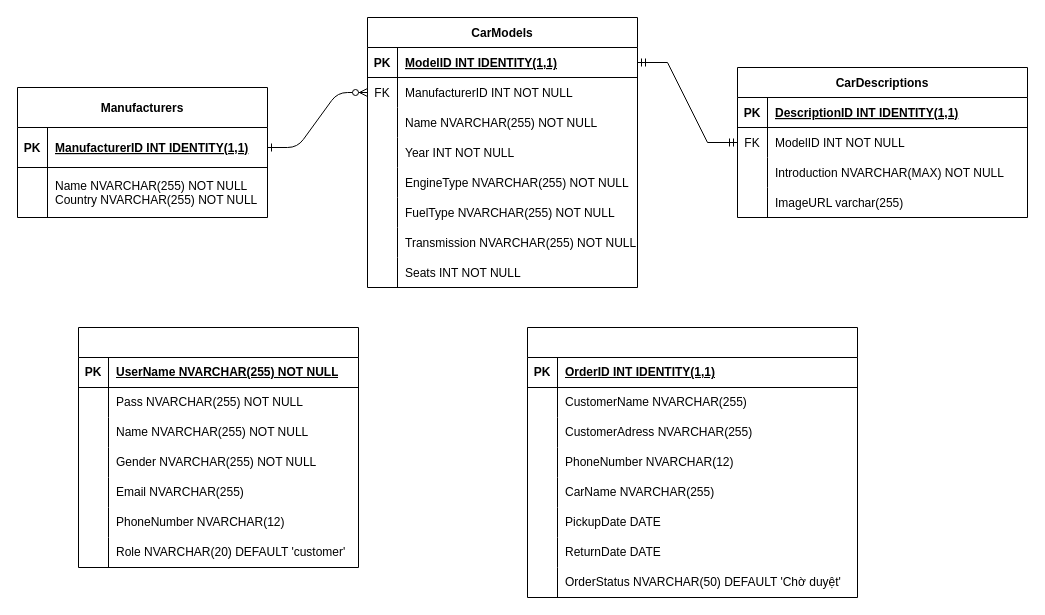
This 1045x615 diagram has some shape labels left out. The box of each missing label's shape, as (x1, y1, x2, y2) in pixels:
RentalOrders: (526, 326, 858, 598)
UserInfo: (78, 326, 358, 568)
